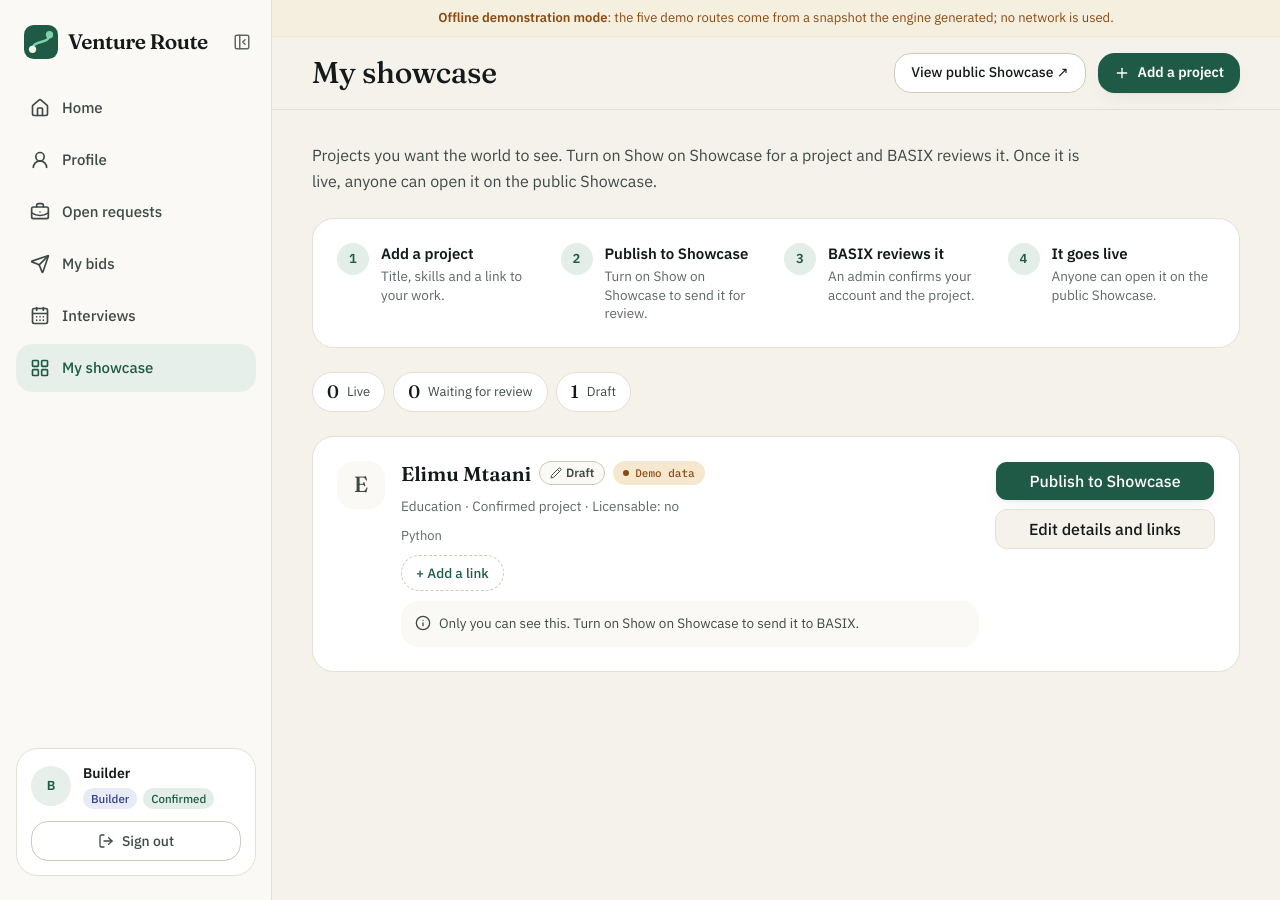
Test: /my-showcase › keeps the card and shows an error when publishing fails
Click the button "Publish to Showcase": point(1105, 481) [995,461,1215,501]
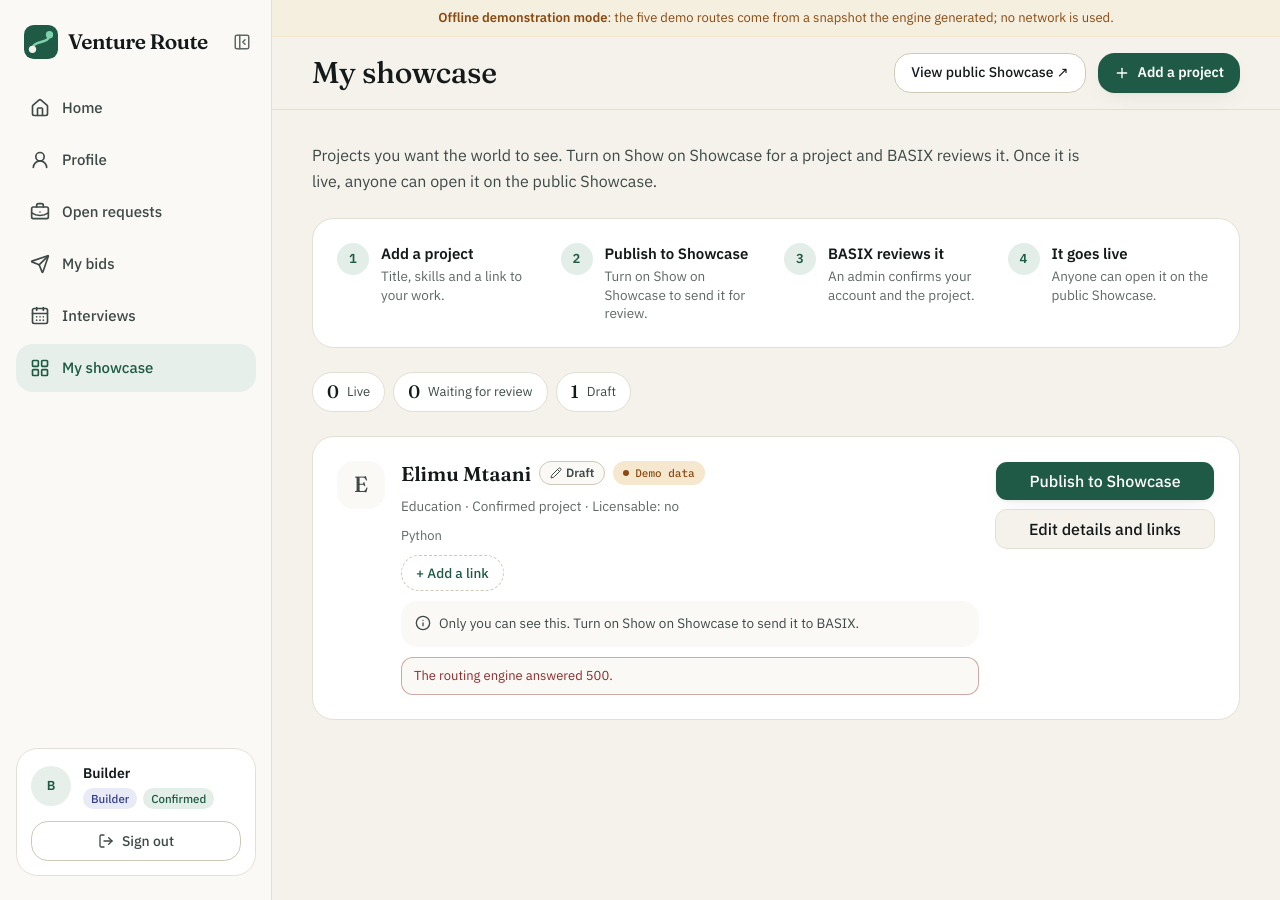
Expected: the element with test id "state-pill" reads "Draft", [566,465,594,480]
Now the message "The routing engine answered 500." is shown, box [401,657,979,695]
